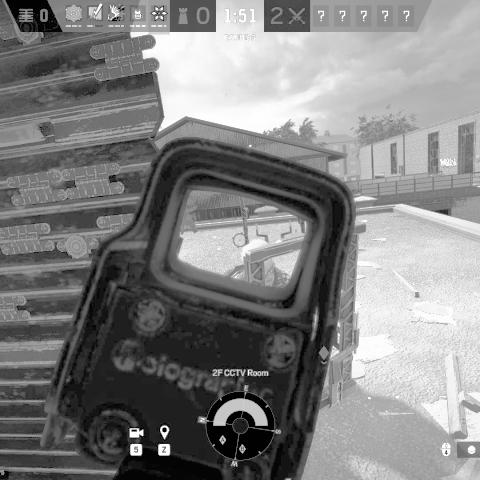Character: (225, 237, 295, 289)
Head: (243, 238, 276, 289)
